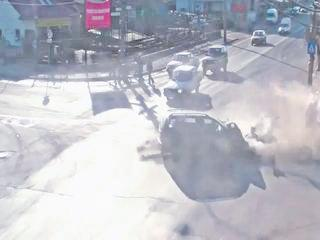Car: (163, 114, 241, 159), (248, 125, 315, 161), (164, 65, 201, 98), (203, 46, 228, 76), (166, 53, 199, 75), (252, 30, 267, 46), (266, 8, 277, 25), (280, 18, 291, 34)
Major Accident: (163, 113, 316, 162)
